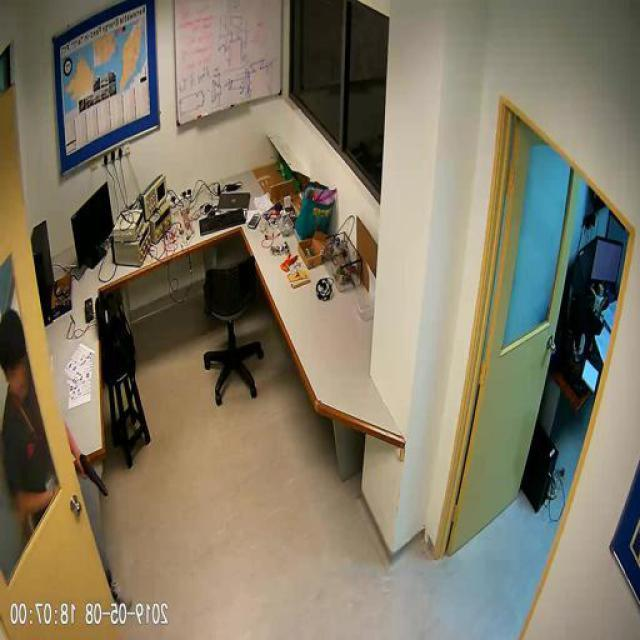weapon: (68, 457, 110, 496)
